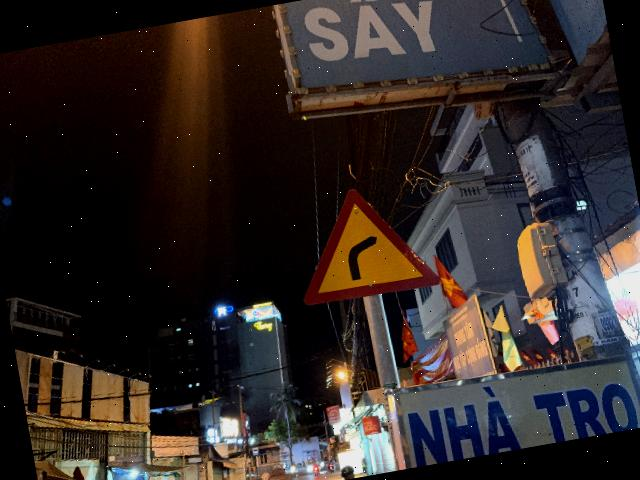cho-ngoat-nguy-hiem-ben-phai: (286, 176, 443, 308)
